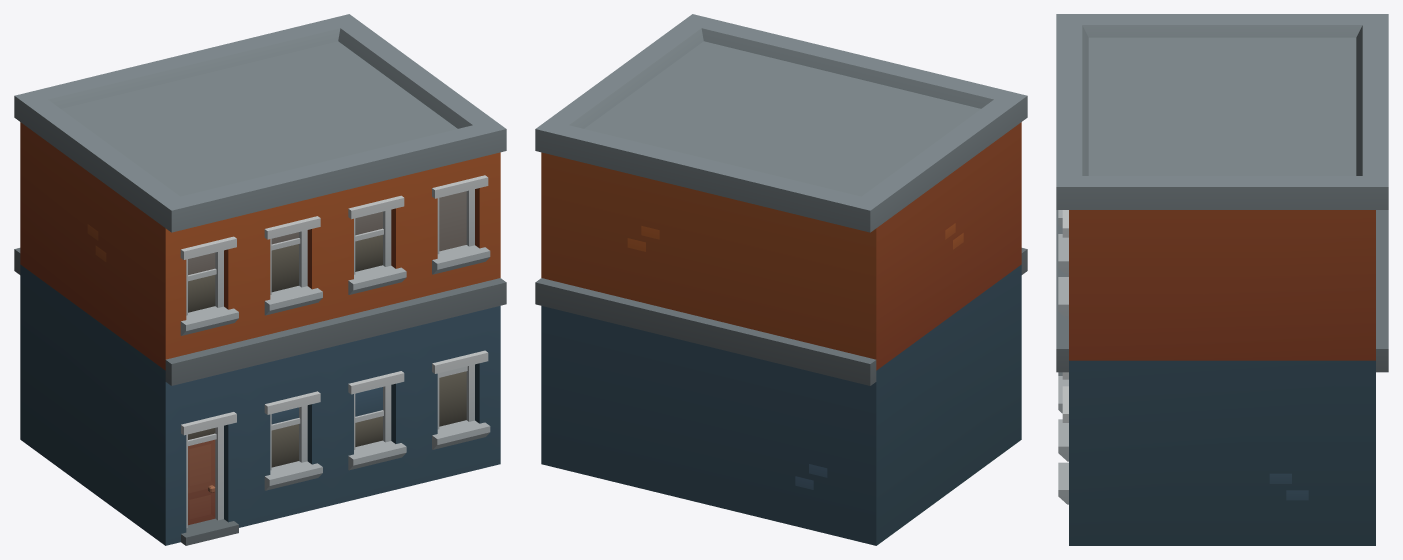
The model's file is city-building-b.glb.
3 views of the same model, side by side, from view 1: azimuth 30°, elevation 25°; view 2: azimuth 150°, elevation 25°; view 3: azimuth 270°, elevation 25° (orthographic). The views are drawn at different scales.
Parts seen in each view (by area): view 1: building_B_withoutBase; view 2: building_B_withoutBase; view 3: building_B_withoutBase.
Part boxes in pixels (x1,y1,x2,y2): building_B_withoutBase: [14, 14, 506, 545]; building_B_withoutBase: [535, 14, 1027, 545]; building_B_withoutBase: [1056, 14, 1388, 545].
Bounding box in the file's own units: 1.61 × 1.55 × 1.3.
